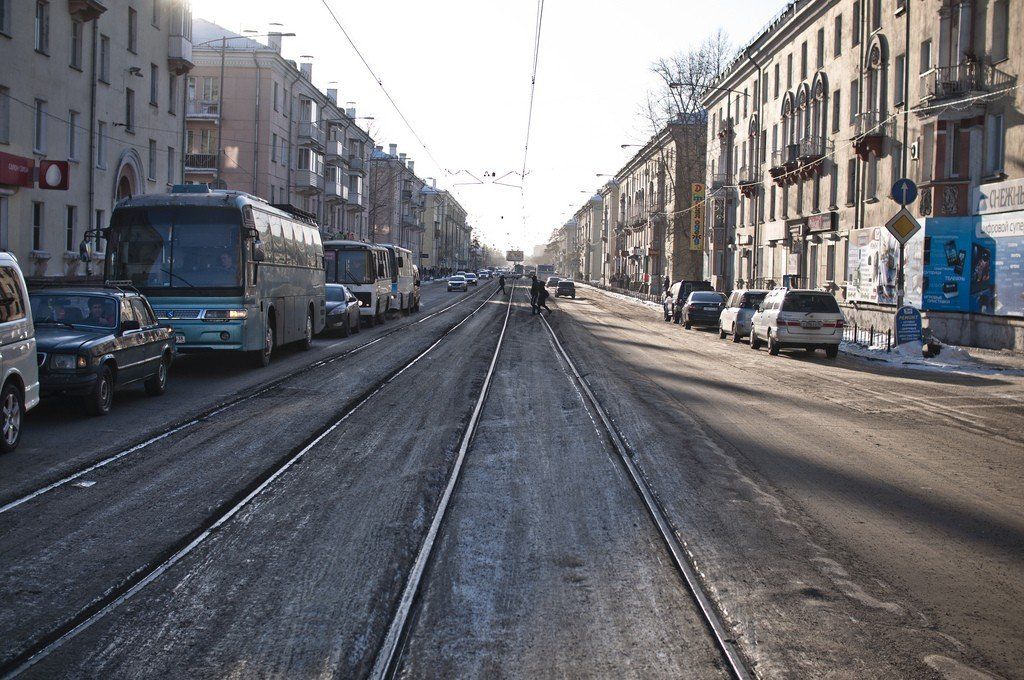sign: (883, 207, 922, 245), (890, 177, 918, 207)
